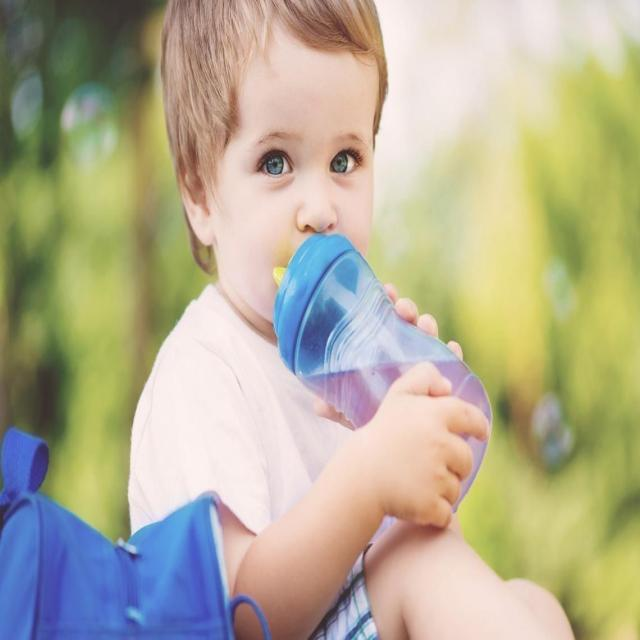gym bottle: (274, 231, 492, 459)
